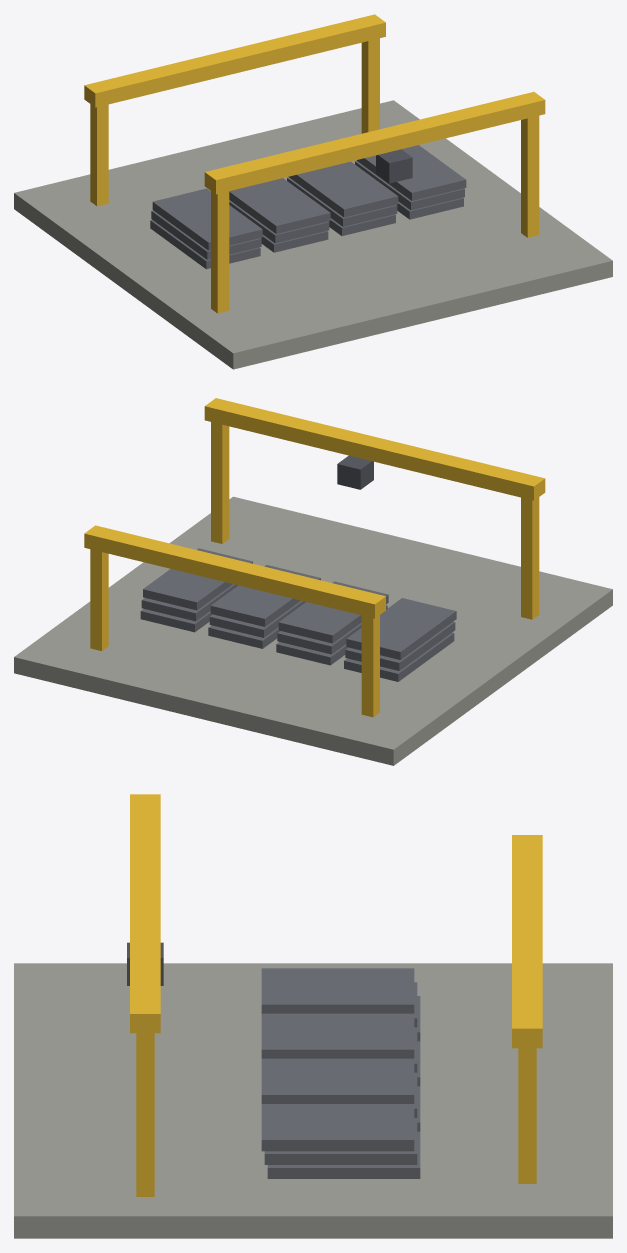
Rendered from metal_special_3.glb.
3 renders of one model, top to bottom at view 1: azimuth 30°, elevation 25°; view 2: azimuth 150°, elevation 25°; view 3: azimuth 270°, elevation 25°, orthographic. The views are drawn at different scales.
Parts seen in each view (by area): view 1: metal_special_3; view 2: metal_special_3; view 3: metal_special_3.
Boxes of the visible parts, x1,y1,x2,y2 form: metal_special_3: (14, 14, 612, 369); metal_special_3: (14, 398, 612, 765); metal_special_3: (14, 794, 612, 1238).
Size of the model in its own units: 1.96 by 0.75 by 1.96.
